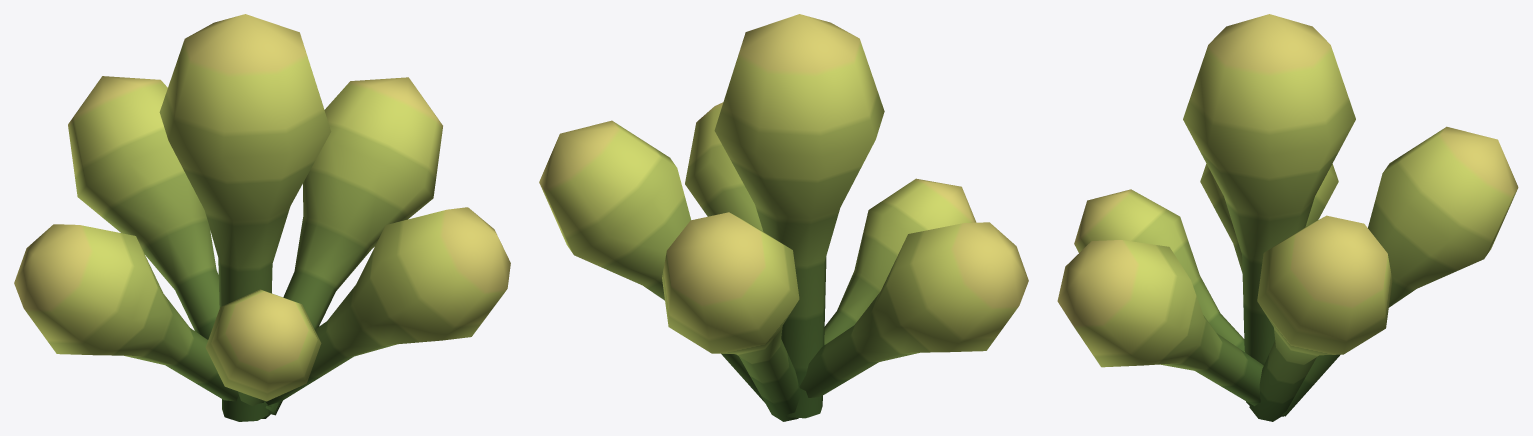
The model's file is plant_010.fbx.
3 renders of one model, left to right at view 1: azimuth 30°, elevation 25°; view 2: azimuth 150°, elevation 25°; view 3: azimuth 270°, elevation 25°, orthographic. The views are drawn at different scales.
Parts seen in each view (by area): view 1: plant.010; view 2: plant.010; view 3: plant.010.
Boxes of the visible parts, <box> form: plant.010: <box>14,14,510,421</box>; plant.010: <box>539,14,1028,421</box>; plant.010: <box>1057,14,1518,421</box>.
Bounding box in the file's own units: 21.33 × 18.74 × 19.71.
